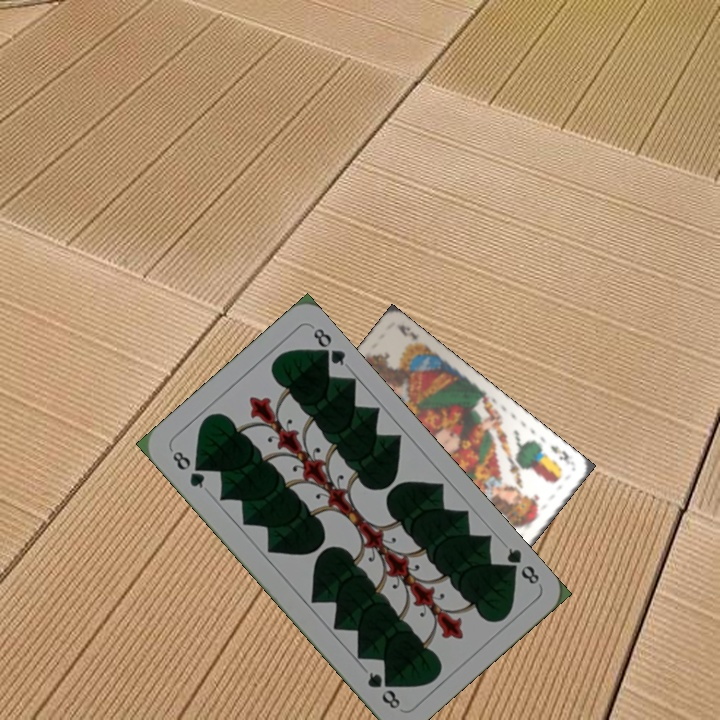EK: (546, 441, 571, 464)
G8: (499, 544, 542, 587), (168, 445, 208, 491)
